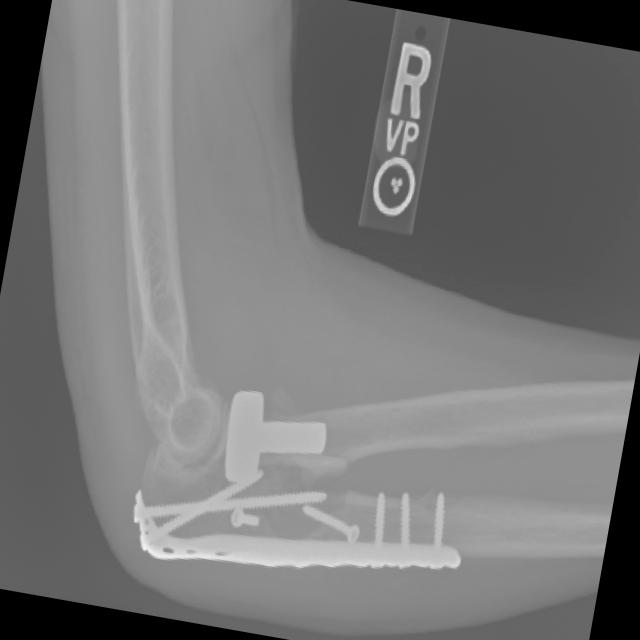elbow positive: (249, 458, 371, 542)
